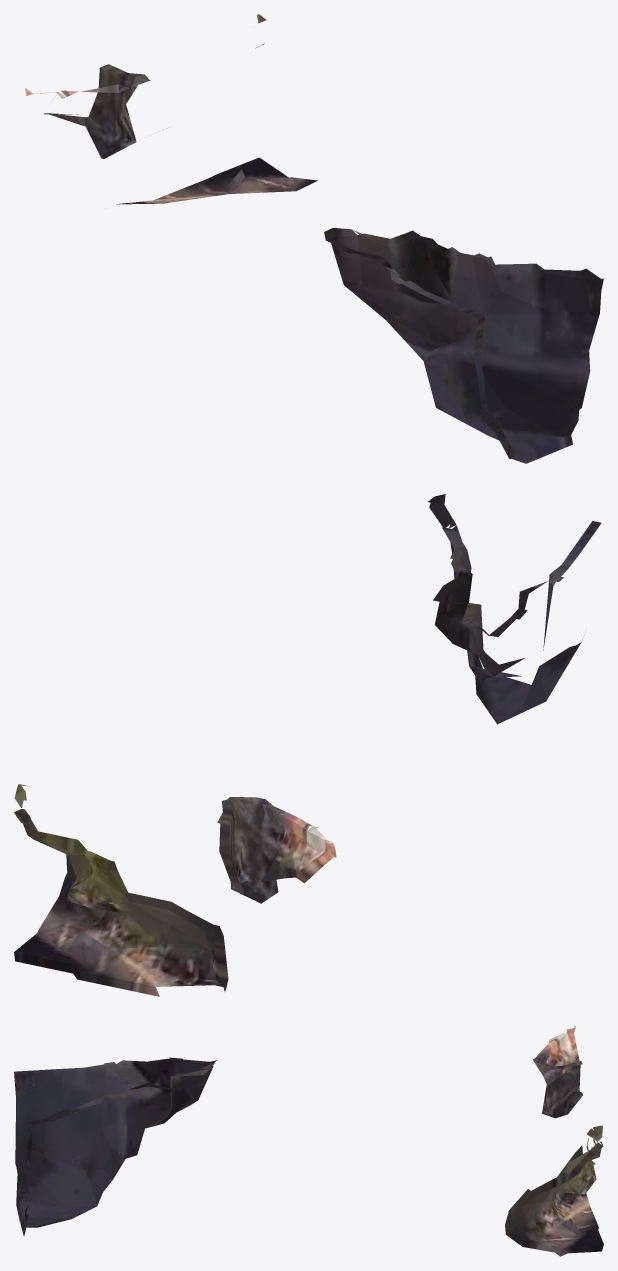
3 renders of one model, top to bottom at view 1: azimuth 30°, elevation 25°; view 2: azimuth 150°, elevation 25°; view 3: azimuth 270°, elevation 25°, orthographic. The views are drawn at different scales.
Parts seen in each view (by area): view 1: Mesh_0; view 2: Mesh_0; view 3: Mesh_0.
Boxes of the visible parts, x1,y1,x2,y2 form: Mesh_0: (25,14,603,463); Mesh_0: (14,494,601,996); Mesh_0: (14,1025,603,1256).
Size of the model in its own units: 17.23 by 9.85 by 39.67.
Materials: 1 (1 with a texture image).
